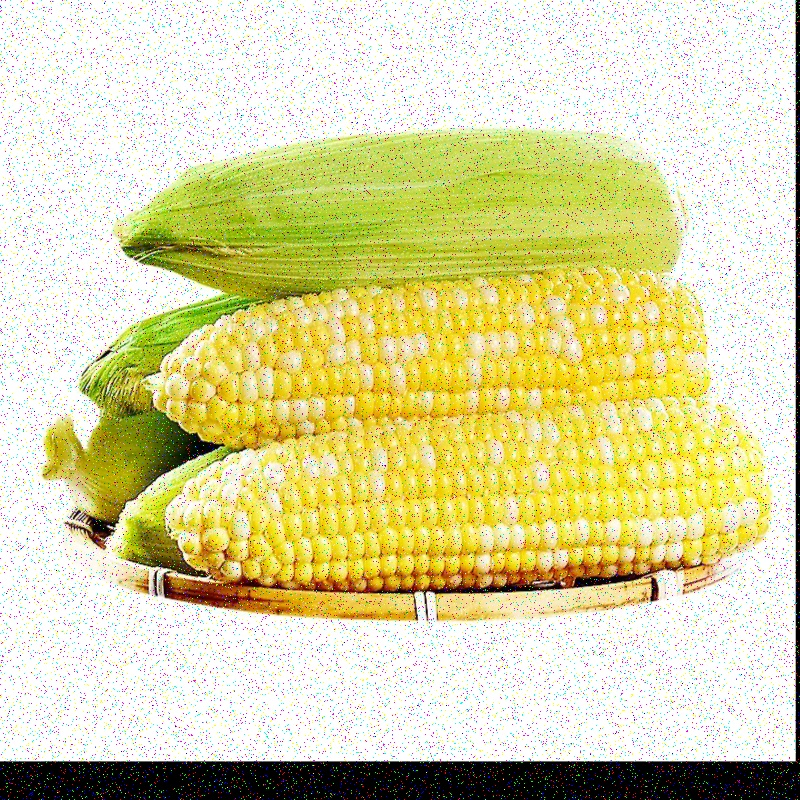corn: (150, 266, 709, 448), (188, 412, 766, 574)
corn_plant: (119, 130, 698, 275)
